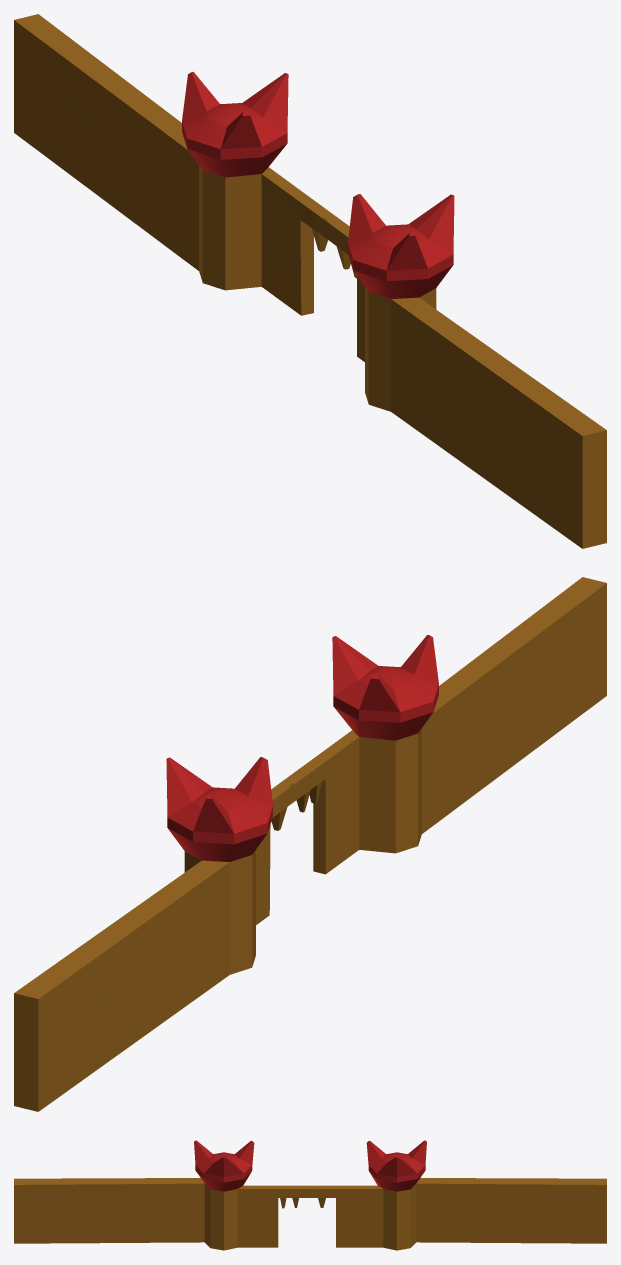
Rendered from OrcWall.fbx.
3 views of the same model, one above another, from view 1: azimuth 30°, elevation 25°; view 2: azimuth 150°, elevation 25°; view 3: azimuth 270°, elevation 25° (orthographic). The views are drawn at different scales.
Visible parts, largest first — view 1: Wall3; view 2: Wall3; view 3: Wall3.
Part boxes in pixels (box(x1,y1,x2,y2)): Wall3: box(14, 14, 606, 548); Wall3: box(14, 577, 606, 1111); Wall3: box(14, 1140, 606, 1250).
Size of the model in its own units: 106 by 190 by 1036.
